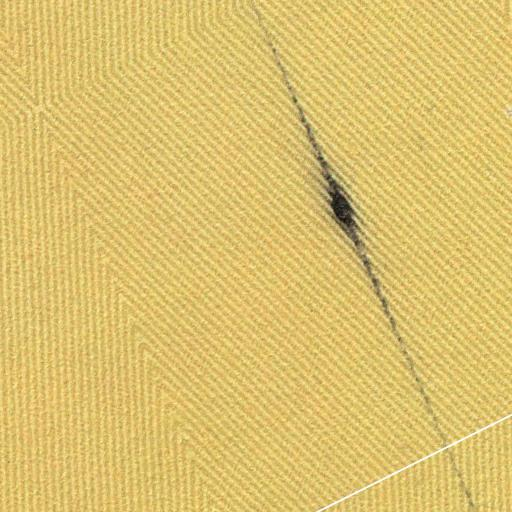stain: (254, 8, 484, 512)
